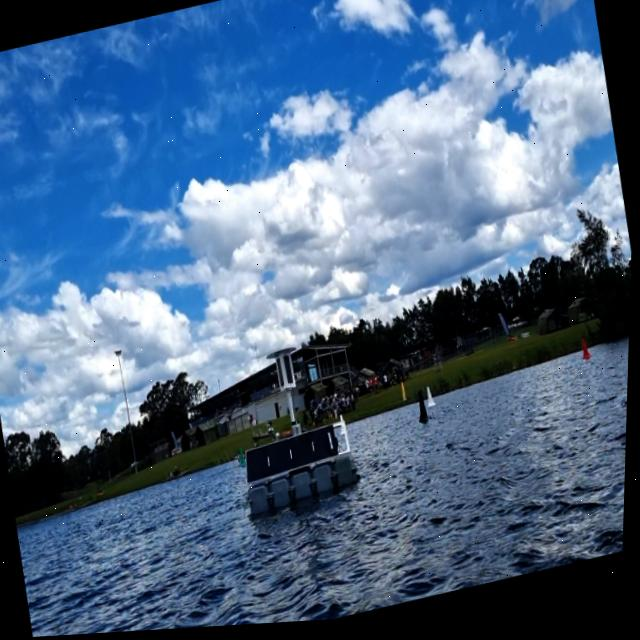led: (282, 354, 297, 390), (277, 359, 288, 391)
